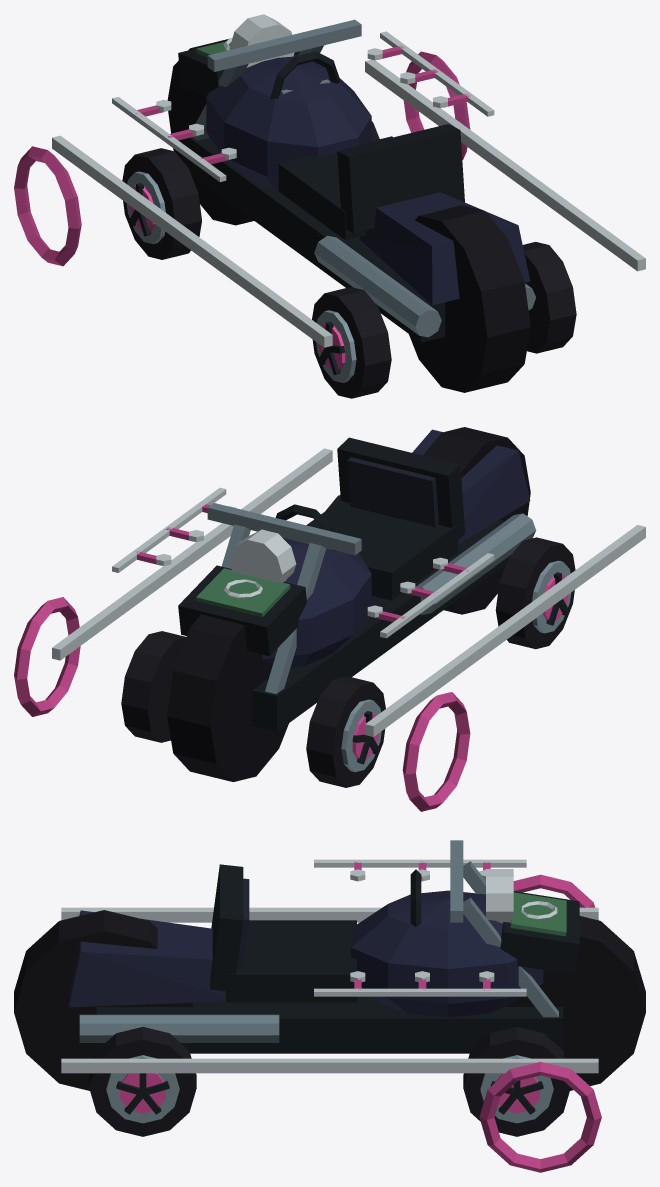
File: kart.glb
The picture shows the model from 3 angles, top to bottom: view 1: azimuth 30°, elevation 25°; view 2: azimuth 150°, elevation 25°; view 3: azimuth 270°, elevation 25°; orthographic projection.
Parts seen in each view (by area): view 1: identity-motorbike-motorbike-tank-and-fork, identity-motorbike-motif-neon, identity-motorbike-driver-cockpit, wheel-rear-left, wheel-front-left, identity-motorbike-motif-circuit, wheel-rear-right, identity-motorbike-motif-scanner; view 2: identity-motorbike-motorbike-tank-and-fork, identity-motorbike-motif-neon, identity-motorbike-driver-cockpit, wheel-front-left, identity-motorbike-motif-scanner, wheel-rear-left, wheel-front-right, identity-motorbike-motif-circuit; view 3: identity-motorbike-motorbike-tank-and-fork, identity-motorbike-motif-neon, identity-motorbike-driver-cockpit, wheel-rear-right, wheel-front-right, identity-motorbike-motif-scanner, identity-motorbike-motif-circuit.
Boxes of the visible parts, box(x1,y1,x2,y2) form: identity-motorbike-motorbike-tank-and-fork: box(167, 14, 535, 392); identity-motorbike-motif-neon: box(14, 51, 645, 347); identity-motorbike-driver-cockpit: box(270, 51, 464, 239); wheel-rear-left: box(312, 287, 391, 398); wheel-front-left: box(122, 148, 201, 259); identity-motorbike-motif-circuit: box(112, 31, 494, 181); wheel-rear-right: box(522, 242, 576, 353); identity-motorbike-motif-scanner: box(178, 37, 299, 96); identity-motorbike-motorbike-tank-and-fork: box(167, 427, 536, 781); identity-motorbike-motif-neon: box(14, 448, 645, 811); identity-motorbike-driver-cockpit: box(275, 437, 465, 600); wheel-front-left: box(306, 676, 385, 787); identity-motorbike-motif-scanner: box(178, 565, 306, 656); wheel-rear-left: box(495, 537, 575, 649); wheel-front-right: box(121, 631, 186, 742); identity-motorbike-motif-circuit: box(112, 487, 494, 638); identity-motorbike-motorbike-tank-and-fork: box(14, 840, 645, 1090); identity-motorbike-motif-neon: box(61, 874, 601, 1172); identity-motorbike-driver-cockpit: box(210, 864, 421, 1002); wheel-rear-right: box(89, 1027, 196, 1136); wheel-front-right: box(463, 1027, 570, 1136); identity-motorbike-motif-scanner: box(500, 891, 579, 974); identity-motorbike-motif-circuit: box(314, 859, 526, 996).
Size of the model in its own units: 2.13 by 1.09 by 2.94.
